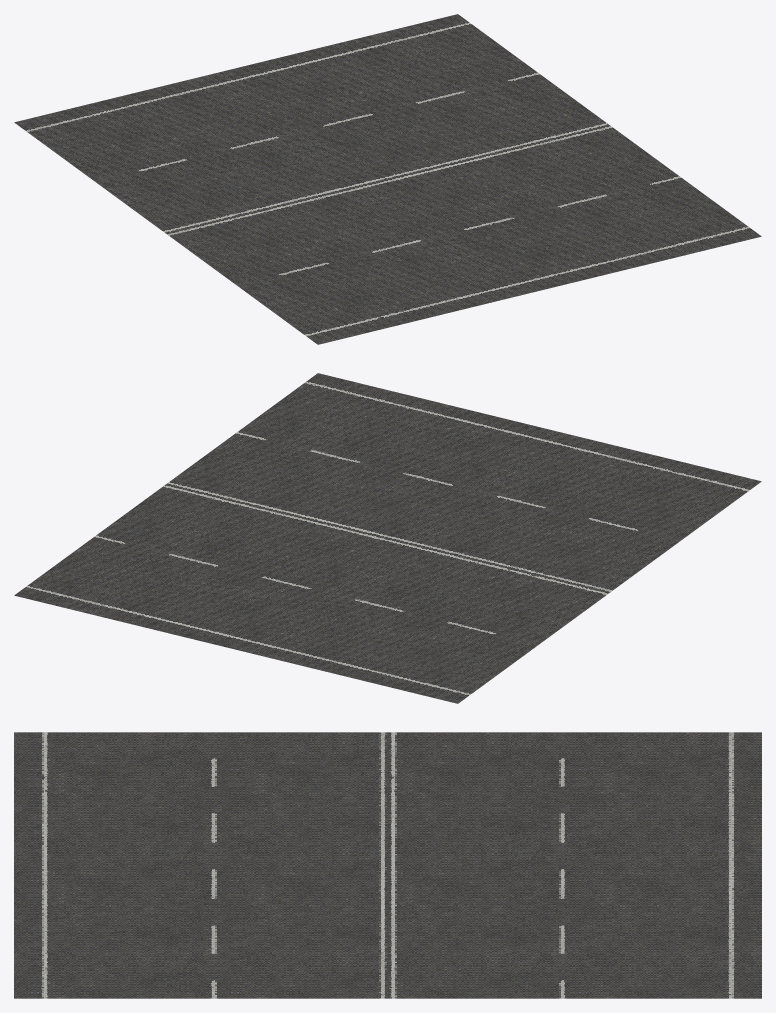
The model's file is Highway_Join_2.glb.
3 renders of one model, top to bottom at view 1: azimuth 30°, elevation 25°; view 2: azimuth 150°, elevation 25°; view 3: azimuth 270°, elevation 25°, orthographic. The views are drawn at different scales.
Visible parts, largest first — view 1: Highway_Join_2; view 2: Highway_Join_2; view 3: Highway_Join_2.
Boxes of the visible parts, x1,y1,x2,y2 form: Highway_Join_2: [14, 14, 761, 344]; Highway_Join_2: [14, 373, 761, 703]; Highway_Join_2: [14, 732, 761, 998].
Size of the model in its own units: 15.79 by 0 by 18.72.
1 material, 1 textured.
